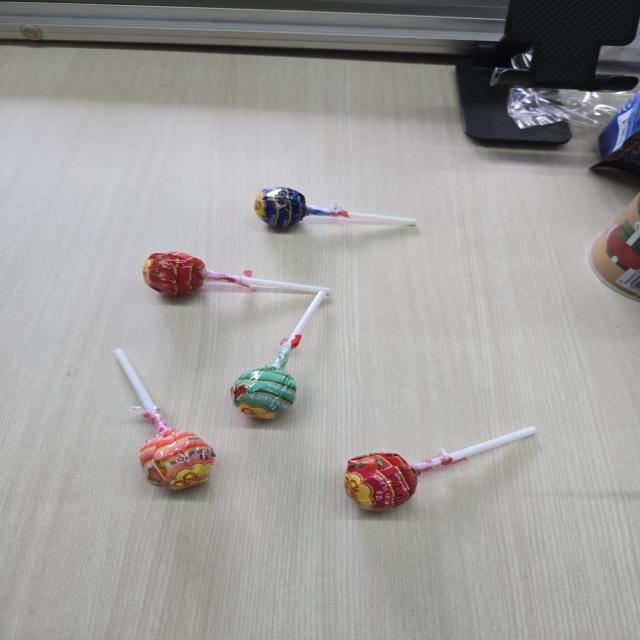lollipop: (339, 419, 547, 518), (106, 343, 220, 496), (225, 288, 334, 426), (141, 246, 334, 304), (253, 186, 424, 236)
